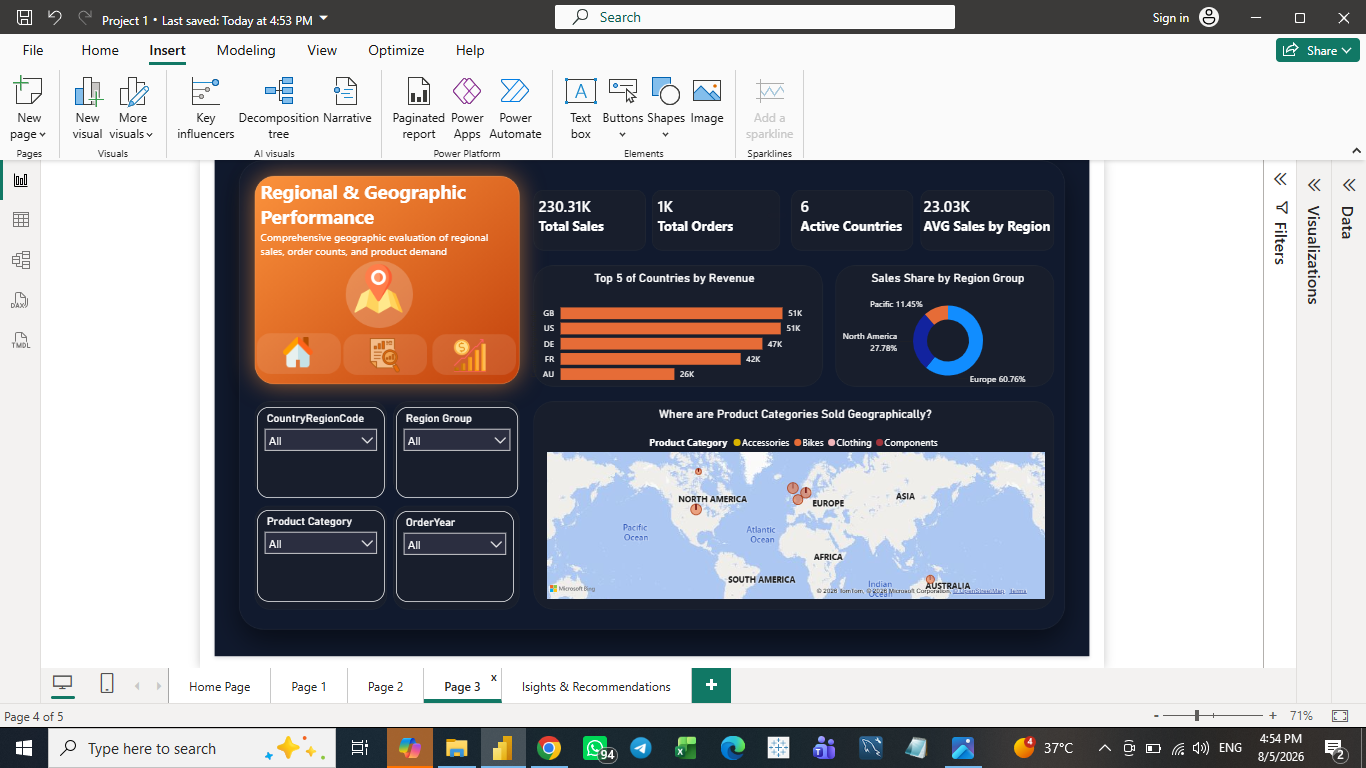

This screenshot's page, from the dashboard's own definition file:
{"tool":"powerbi","page":{"name":" Page 3","canvas":[1280,720],"ordinal":3},"visuals":[{"type":"image","box":[42,216.7,194.9,109.2],"z":0},{"type":"image","box":[127.7,218.4,270.4,109.2],"z":1000},{"type":"image","box":[253.6,218.4,270.7,109.1],"z":2000},{"type":"textbox","box":[80.6,21.8,369.6,124.3],"z":3000},{"type":"image","box":[124.3,118.6,259.4,134.6],"z":4000},{"type":"image","box":[215,252,92.4,48.7],"z":5000},{"type":"image","box":[80.6,250.3,116.2,42.5],"z":6000},{"type":"image","box":[347.7,253.6,70.6,47],"z":7000},{"type":"cardVisual","fields":{"Data":["All Measures.Total Sales"]},"box":[450.7,24.1,223.9,107.7],"z":8000},{"type":"cardVisual","fields":{"Data":["All Measures.Total Orders"]},"box":[619.4,24.1,223.9,107.7],"z":9000},{"type":"cardVisual","fields":{"Data":["Count(Dim_regions.CountryRegionCode)"]},"box":[821.4,23.5,213.3,107.5],"z":10000},{"type":"cardVisual","fields":{"Data":["All Measures.AVG Sales per Region"]},"box":[996.1,23.5,241.9,107.5],"z":11000},{"type":"slicer","fields":{"Values":["Dim_regions.CountryRegionCode"]},"box":[80.8,350.1,181.4,129],"z":12000},{"type":"slicer","fields":{"Values":["Dim_regions.Region Group"]},"box":[277.8,350.1,172.9,129],"z":13000},{"type":"slicer","fields":{"Values":["Dim_Products.Product Category"]},"box":[80.8,496.1,181.4,130.4],"z":14000},{"type":"slicer","fields":{"Values":["Fact_Sales (2011_2014).OrderYear"]},"box":[277.8,497.5,167.2,129],"z":15000},{"type":"map","title":"Where are Product Categories Sold Geographically?","fields":{"Category":["Dim_regions.CountryRegionCode"],"Series":["Dim_Products.Product Category"],"Size":["Sum(Fact_Sales (2011_2014).LineTotal)"]},"box":[485.5,349.4,715.6,277.2],"z":16000},{"type":"clusteredBarChart","title":"Top 5 of Countries by Revenue","fields":{"Category":["Dim_regions.CountryRegionCode"],"Y":["Sum(Fact_Sales (2011_2014).LineTotal)"]},"box":[462,157.3,420.9,168.7],"z":17000},{"type":"image","box":[214.3,147.1,78.6,70],"z":18000},{"type":"donutChart","title":"Sales Share by Region Group","fields":{"Category":["Dim_regions.Region Group"],"Y":["Sum(Fact_Sales (2011_2014).LineTotal)"]},"box":[905.7,157.3,309,167.2],"z":19000}]}

Visuals, with their boxes on the page's 1280x720 design canvas (x1, y1, x2, y2). These are canvas units, not pixel positions in the 1366x768 screenshot, which may show the page scaled, cropped or inside an application window:
image: {"x1": 42, "y1": 217, "x2": 237, "y2": 326}
image: {"x1": 128, "y1": 218, "x2": 398, "y2": 328}
image: {"x1": 254, "y1": 218, "x2": 524, "y2": 328}
textbox: {"x1": 81, "y1": 22, "x2": 450, "y2": 146}
image: {"x1": 124, "y1": 119, "x2": 384, "y2": 253}
image: {"x1": 215, "y1": 252, "x2": 307, "y2": 301}
image: {"x1": 81, "y1": 250, "x2": 197, "y2": 293}
image: {"x1": 348, "y1": 254, "x2": 418, "y2": 301}
cardVisual - All Measures.Total Sales: {"x1": 451, "y1": 24, "x2": 675, "y2": 132}
cardVisual - All Measures.Total Orders: {"x1": 619, "y1": 24, "x2": 843, "y2": 132}
cardVisual - Count(Dim_regions.CountryRegionCode): {"x1": 821, "y1": 24, "x2": 1035, "y2": 131}
cardVisual - All Measures.AVG Sales per Region: {"x1": 996, "y1": 24, "x2": 1238, "y2": 131}
slicer - Dim_regions.CountryRegionCode: {"x1": 81, "y1": 350, "x2": 262, "y2": 479}
slicer - Dim_regions.Region Group: {"x1": 278, "y1": 350, "x2": 451, "y2": 479}
slicer - Dim_Products.Product Category: {"x1": 81, "y1": 496, "x2": 262, "y2": 626}
slicer - Fact_Sales (2011_2014).OrderYear: {"x1": 278, "y1": 498, "x2": 445, "y2": 626}
"Where are Product Categories Sold Geographically?" map: {"x1": 486, "y1": 349, "x2": 1201, "y2": 627}
"Top 5 of Countries by Revenue" clusteredBarChart: {"x1": 462, "y1": 157, "x2": 883, "y2": 326}
image: {"x1": 214, "y1": 147, "x2": 293, "y2": 217}
"Sales Share by Region Group" donutChart: {"x1": 906, "y1": 157, "x2": 1215, "y2": 324}
